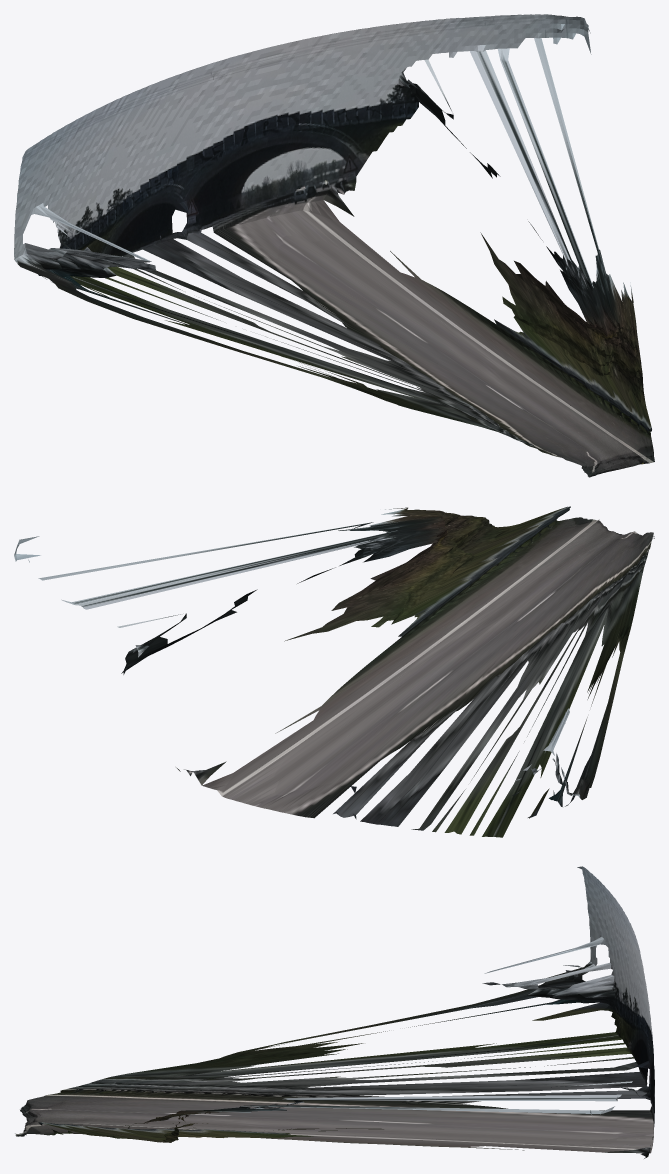
3 renders of one model, top to bottom at view 1: azimuth 30°, elevation 25°; view 2: azimuth 150°, elevation 25°; view 3: azimuth 270°, elevation 25°, orthographic. The views are drawn at different scales.
Parts seen in each view (by area): view 1: defaultobject; view 2: defaultobject; view 3: defaultobject.
Boxes of the visible parts, x1,y1,x2,y2 form: defaultobject: [14, 14, 654, 477]; defaultobject: [14, 506, 654, 837]; defaultobject: [15, 866, 654, 1158].
Bounding box in the file's own units: 40.72 × 12.32 × 44.91.
Materials: 1 (1 with a texture image).
